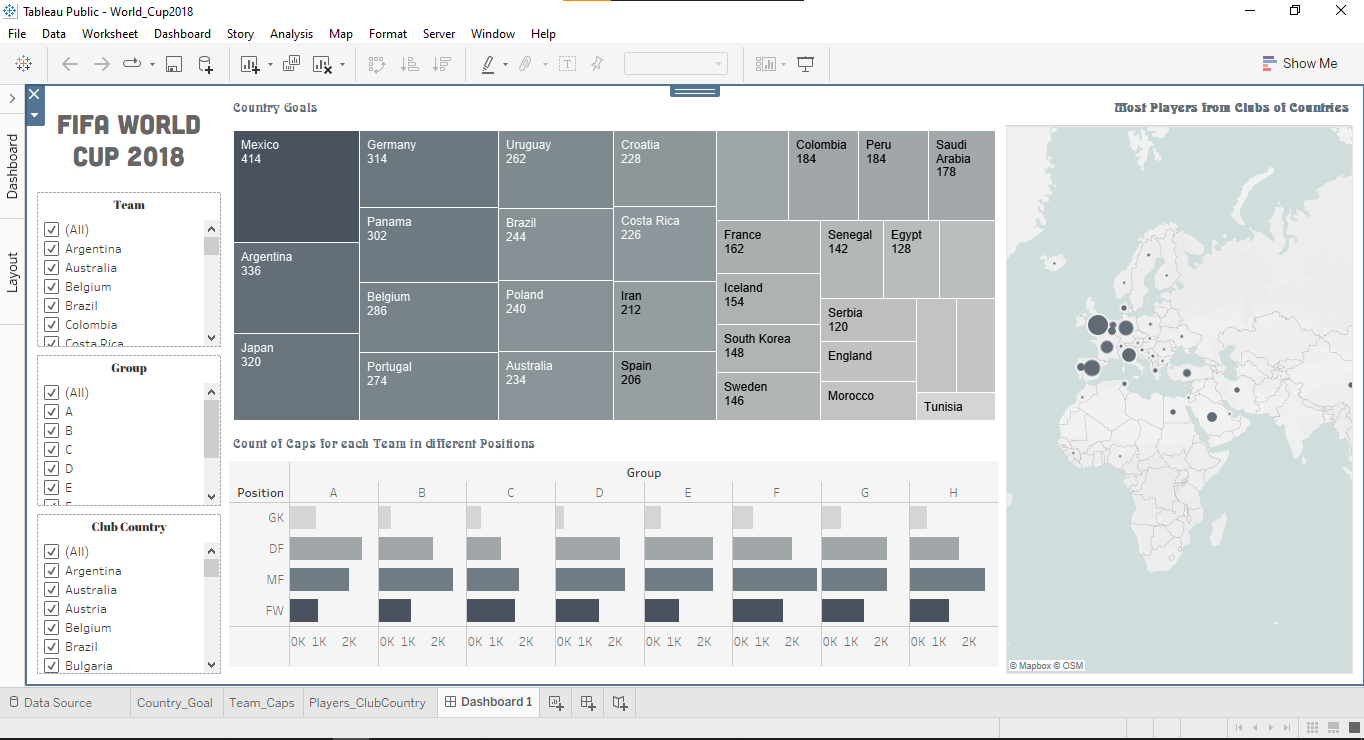

Layout of this report page (visuals, bound fields, positions):
{"tool":"tableau","page":{"name":"Dashboard 1","canvas":[1000,1000],"units":"permille","ordinal":0},"visuals":[{"type":"text","box":[6,13.3,143.1,159.5]},{"type":"worksheet","title":"Country_Goal","mark":"Automatic","box":[149.1,13.3,580.4,558.1]},{"type":"worksheet","title":"Players_ClubCountry","mark":"Automatic","box":[729.4,13.3,264.6,973.4]},{"type":"filter","title":"Country_Goal","param":"[federated.1bzv7wu05g5llz1ea9px71pm62r5].[none:Team:nk]","box":[6,172.8,143.1,270.8]},{"type":"filter","title":"Team_Caps","param":"[federated.1bzv7wu05g5llz1ea9px71pm62r5].[none:Group:nk]","box":[6,443.5,143.1,264.1]},{"type":"worksheet","title":"Team_Caps","mark":"Automatic","rows":["Position"],"cols":["Group","Caps"],"box":[149.1,571.4,580.4,403.7]},{"type":"filter","title":"Players_ClubCountry","param":"[federated.1bzv7wu05g5llz1ea9px71pm62r5].[none:Country and Club - Split 1:nk]","box":[6,707.6,143.1,279.1]}]}

Visuals, with their boxes on the dashboard's canvas, which has no fixed pixel size, in thousandths of its width and height (x1, y1, x2, y2). These are canvas units, not pixel positions in the 1364x740 screenshot, which may show the page scaled, cropped or inside an application window:
text: {"x1": 6, "y1": 13, "x2": 149, "y2": 173}
"Country_Goal" worksheet: {"x1": 149, "y1": 13, "x2": 730, "y2": 571}
"Players_ClubCountry" worksheet: {"x1": 729, "y1": 13, "x2": 994, "y2": 987}
"Country_Goal" filter: {"x1": 6, "y1": 173, "x2": 149, "y2": 444}
"Team_Caps" filter: {"x1": 6, "y1": 444, "x2": 149, "y2": 708}
"Team_Caps" worksheet: {"x1": 149, "y1": 571, "x2": 730, "y2": 975}
"Players_ClubCountry" filter: {"x1": 6, "y1": 708, "x2": 149, "y2": 987}
